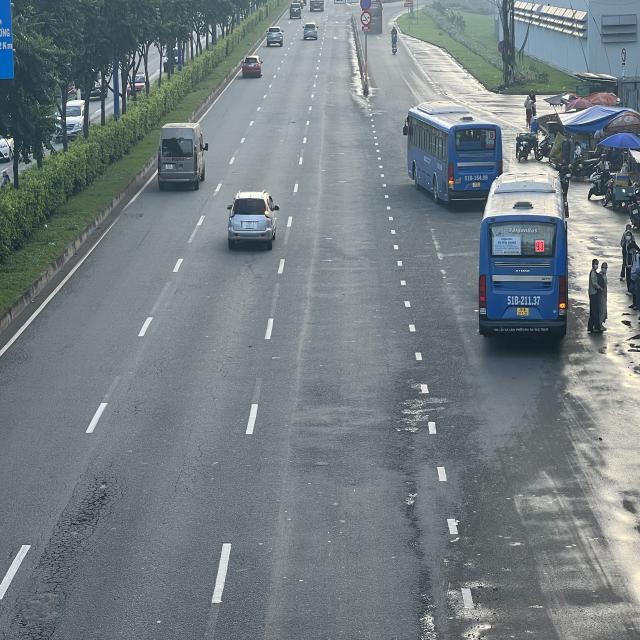car: (229, 193, 281, 249)
coach: (482, 166, 570, 337), (403, 102, 504, 204)
van: (160, 123, 210, 188)
